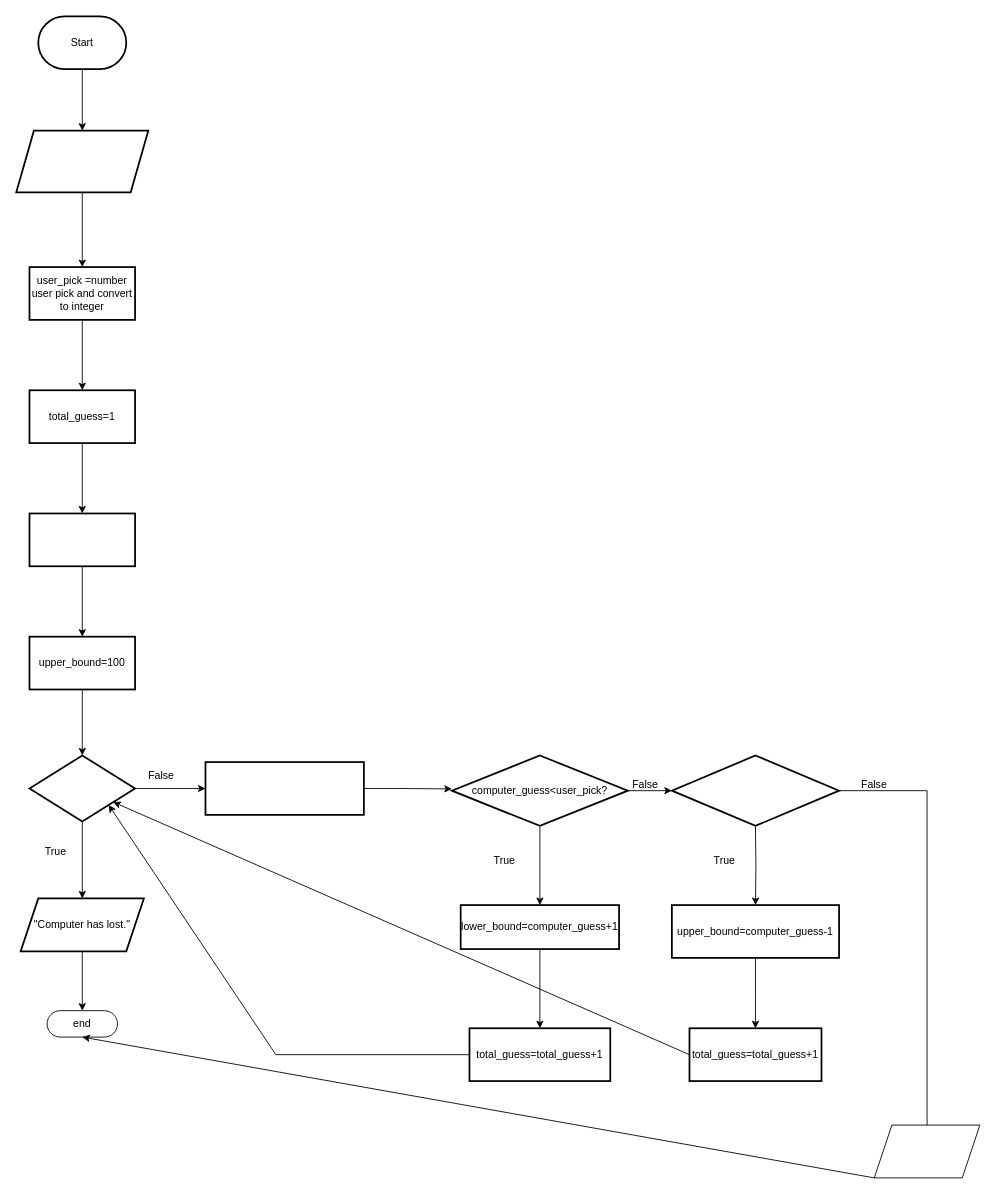
Some shapes in this 995 by 1200 pixel diagram are drawn without their labels. The centre of each missing label's shape, as x and y in pixels:
"bingo!": point (926, 1151)
"Please input a number between 1 to 100 exclusive": point (82, 161)
computer_guess=(lower_bound+upper_bound)//2 (floor division): point (284, 788)
computer_guess>user_pick?: point (755, 790)
lower_bound=1: point (82, 539)
total_guess>7?: point (82, 788)
